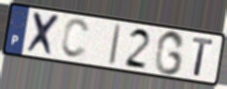2: (121, 27, 153, 71)
C: (59, 17, 92, 61)
G: (152, 29, 187, 77)
I: (107, 22, 123, 67)
T: (191, 36, 215, 79)
X: (24, 10, 63, 59)
